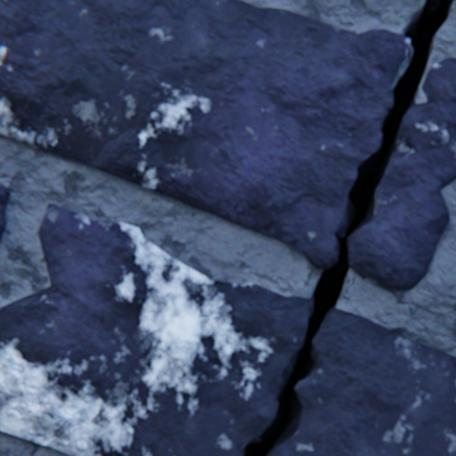brick: (0, 185, 11, 244)
broken_brick: (0, 0, 409, 268), (0, 204, 311, 455), (269, 309, 455, 455), (348, 59, 455, 290)
crack: (241, 0, 454, 455)
